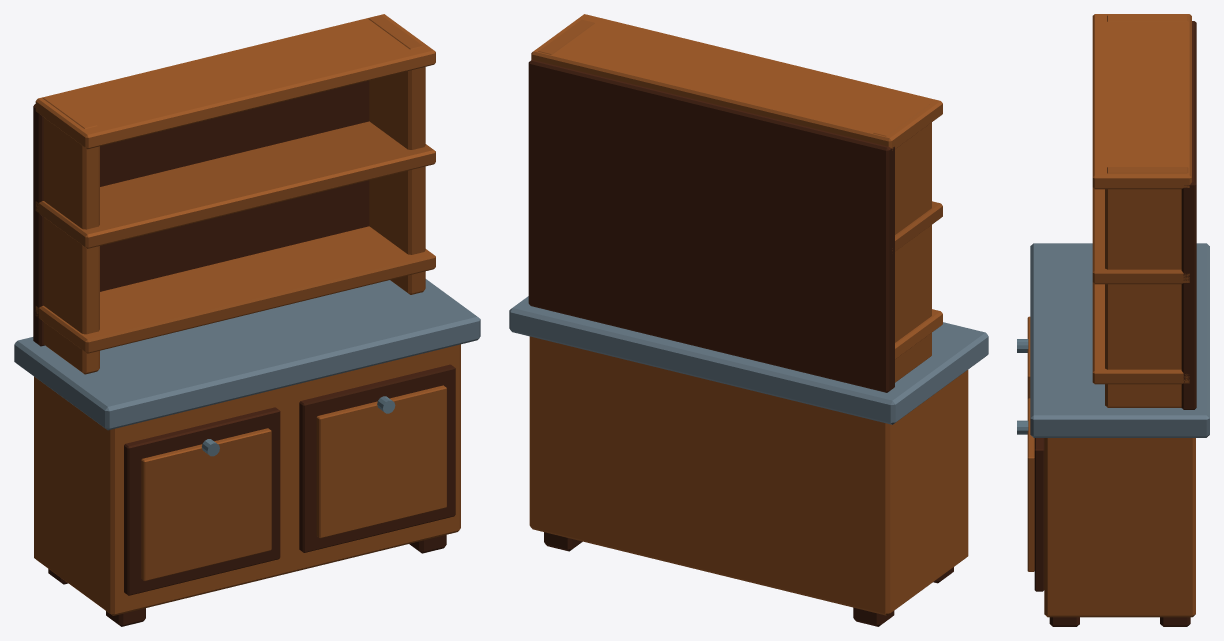
File: EH_KitchenHutch.fbx
3 renders of one model, left to right at view 1: azimuth 30°, elevation 25°; view 2: azimuth 150°, elevation 25°; view 3: azimuth 270°, elevation 25°, orthographic. The views are drawn at different scales.
Visible parts, largest first — view 1: EH_KitchenHutch; view 2: EH_KitchenHutch; view 3: EH_KitchenHutch.
Boxes of the visible parts, left/top/right/bottom form: EH_KitchenHutch: left=14, top=14, right=480, bottom=626; EH_KitchenHutch: left=509, top=14, right=988, bottom=626; EH_KitchenHutch: left=1017, top=14, right=1209, bottom=626.
Size of the model in its own units: 1.5 by 1.83 by 0.698.
